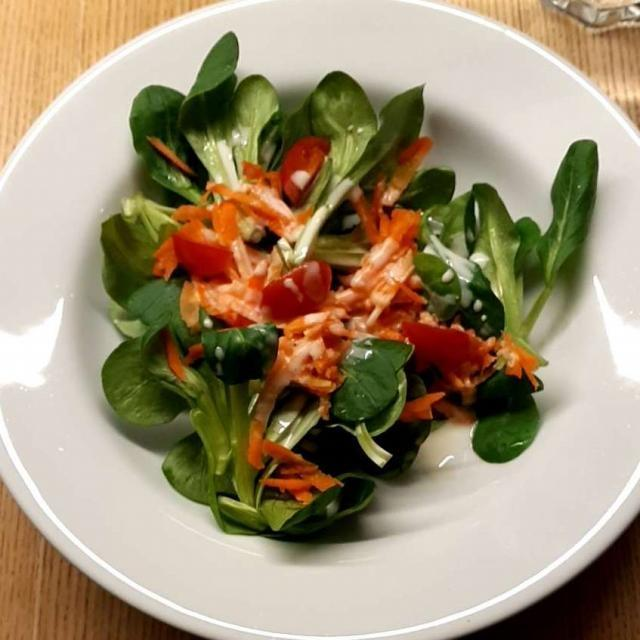carrot: (181, 154, 528, 501)
salad: (107, 64, 584, 533)
